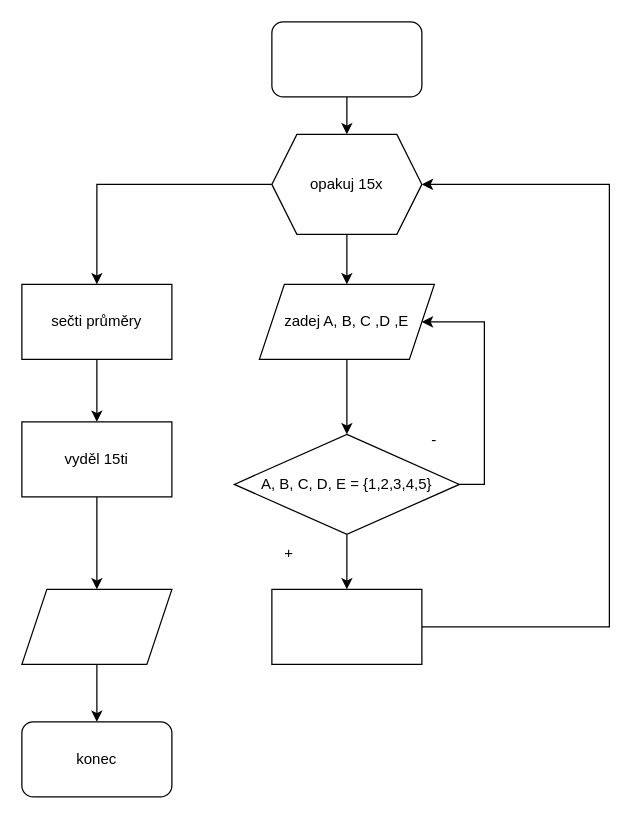
The diagram is 641 pixels wide and 819 high, and some of its shapes have lost their labels. Each missing label, with the centre of its shape:
"průměr = A + B + C + D + E / 5" belongs at pixel 346 626.
"start" belongs at pixel 346 59.
"vypiš výsledek" belongs at pixel 96 626.
